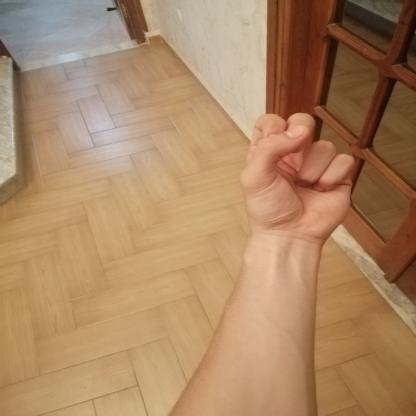QAAF: (221, 105, 369, 248)
